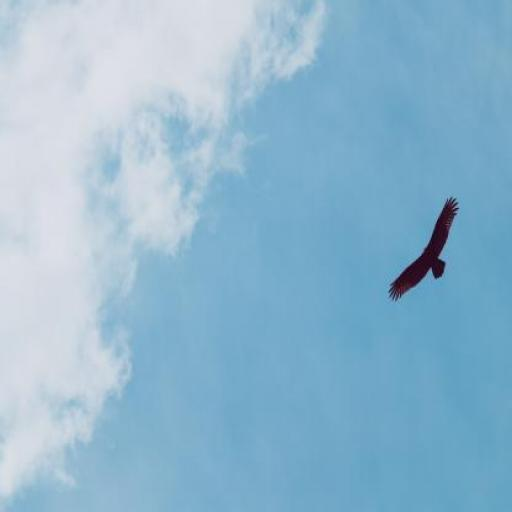bird: (389, 196, 460, 302)
